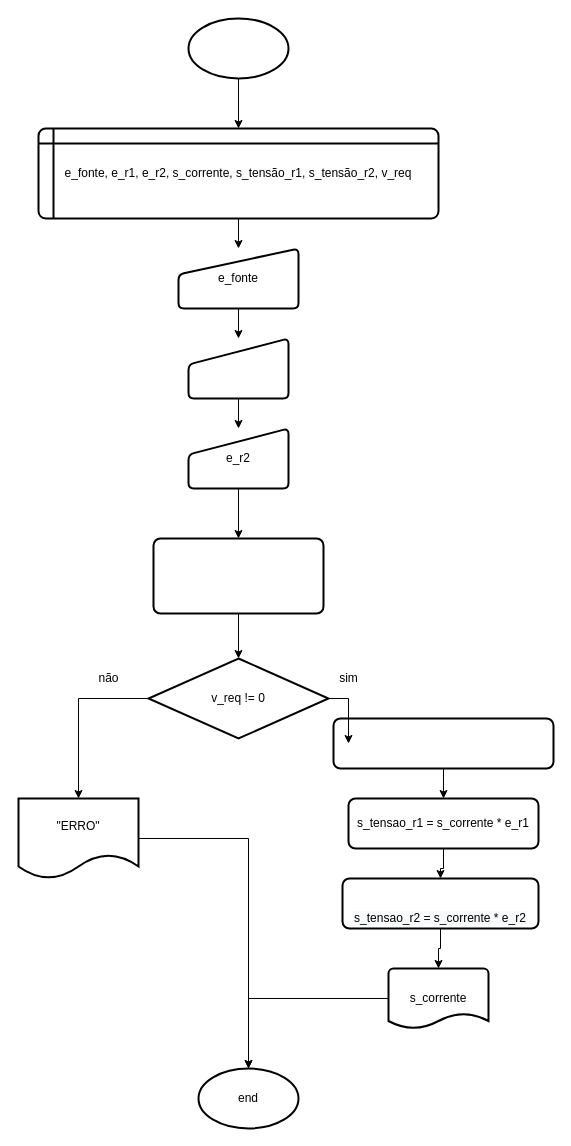
Image size: 571x1146. Some labels were removed from this diagram. Here are the shapes that lost their labels. From the top down, the box of each, then its label:
(187, 17, 289, 79): sart
(187, 337, 289, 399): e_r1
(152, 537, 324, 614): v_req = e_r1 + e_r2
(332, 717, 554, 769): s_corrente = e_fonte / v_req
